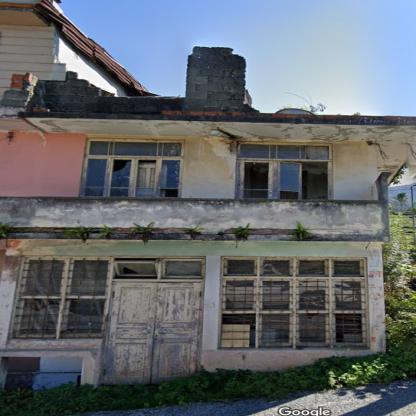door: (106, 284, 200, 384)
window: (219, 259, 364, 346), (20, 259, 107, 335), (84, 140, 184, 196), (241, 145, 328, 198), (114, 258, 204, 279)
